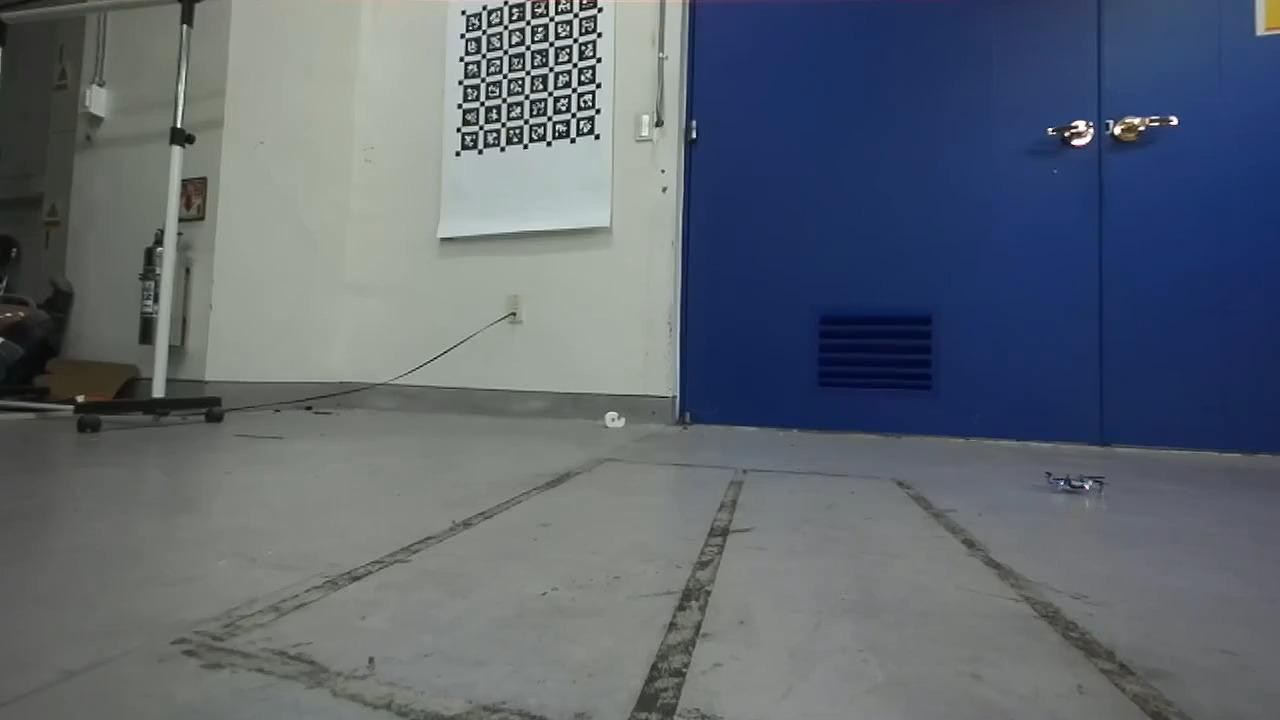crazyflie: (1039, 466, 1105, 499)
